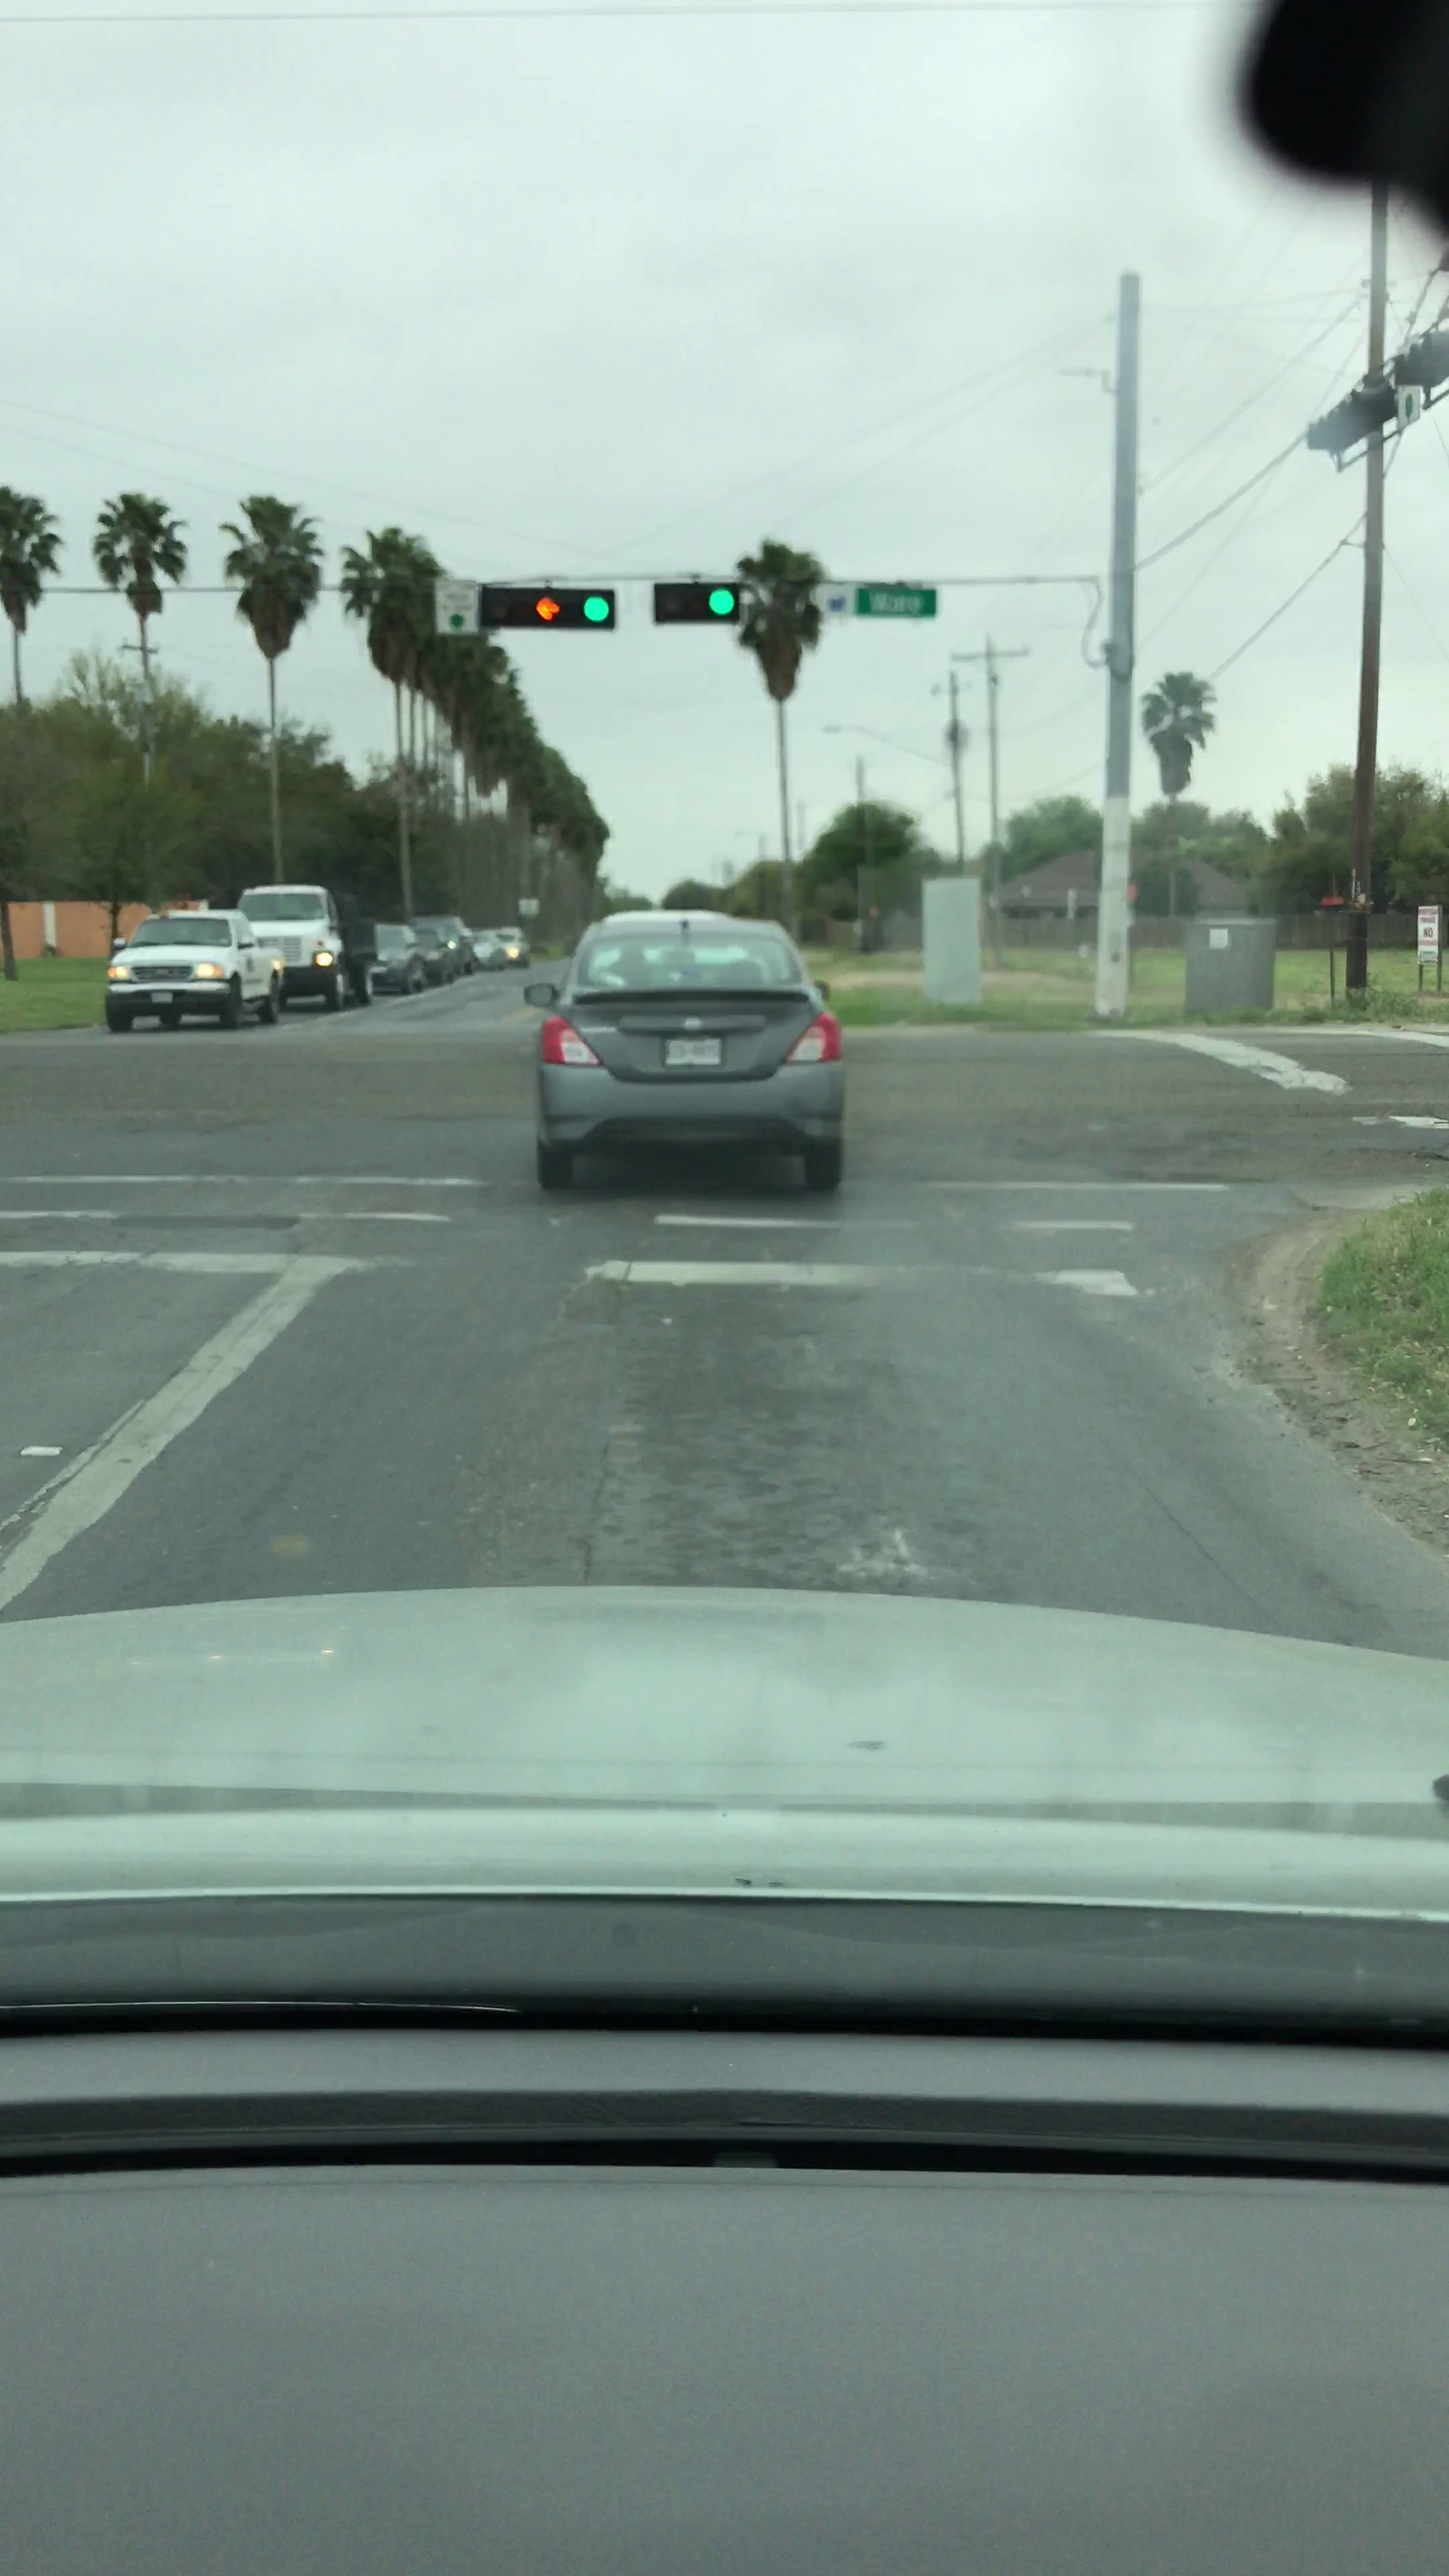blurredLine: (203, 1177, 1169, 1300)
